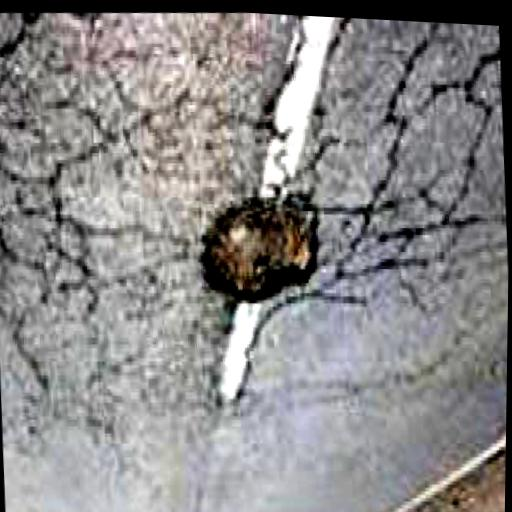pothole: (195, 184, 327, 313)
